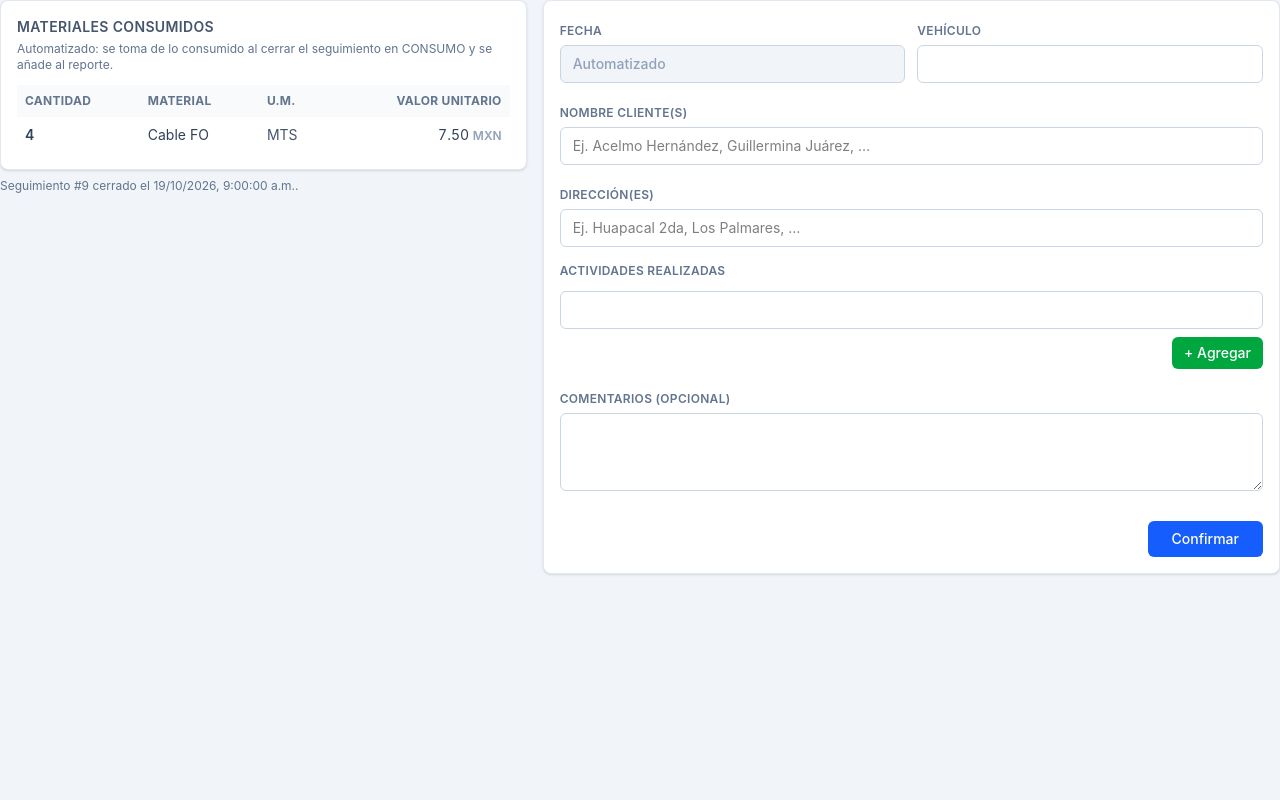
ActividadesPanel — confirmación (REQ-ACT-017) › rechazada: muestra el mensaje del backend y conserva los datos escritos
Type "Camioneta 12" into the field labelled "Vehículo" at point(1090, 64), box [917,45,1263,83]
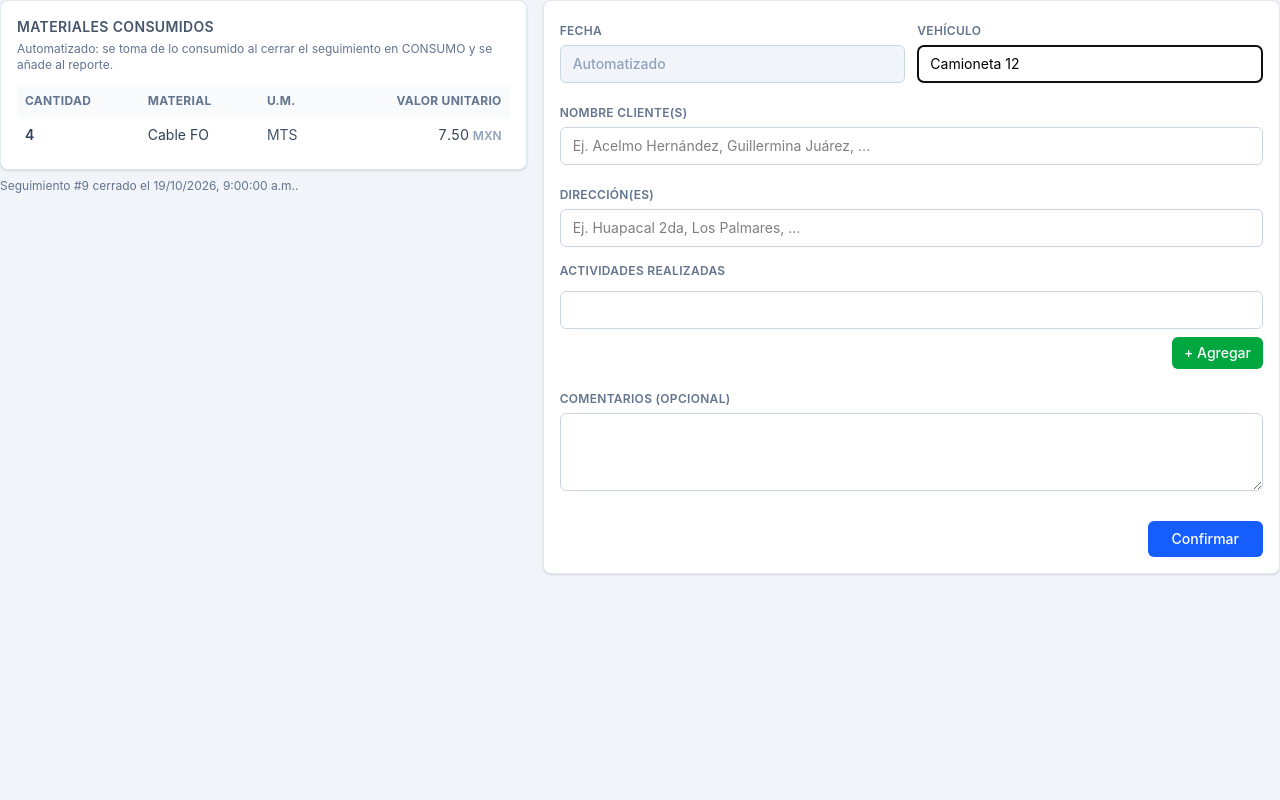
Type "Cliente A" into the field labelled "Nombre Cliente(s)" at point(911, 146), box [560,127,1263,165]
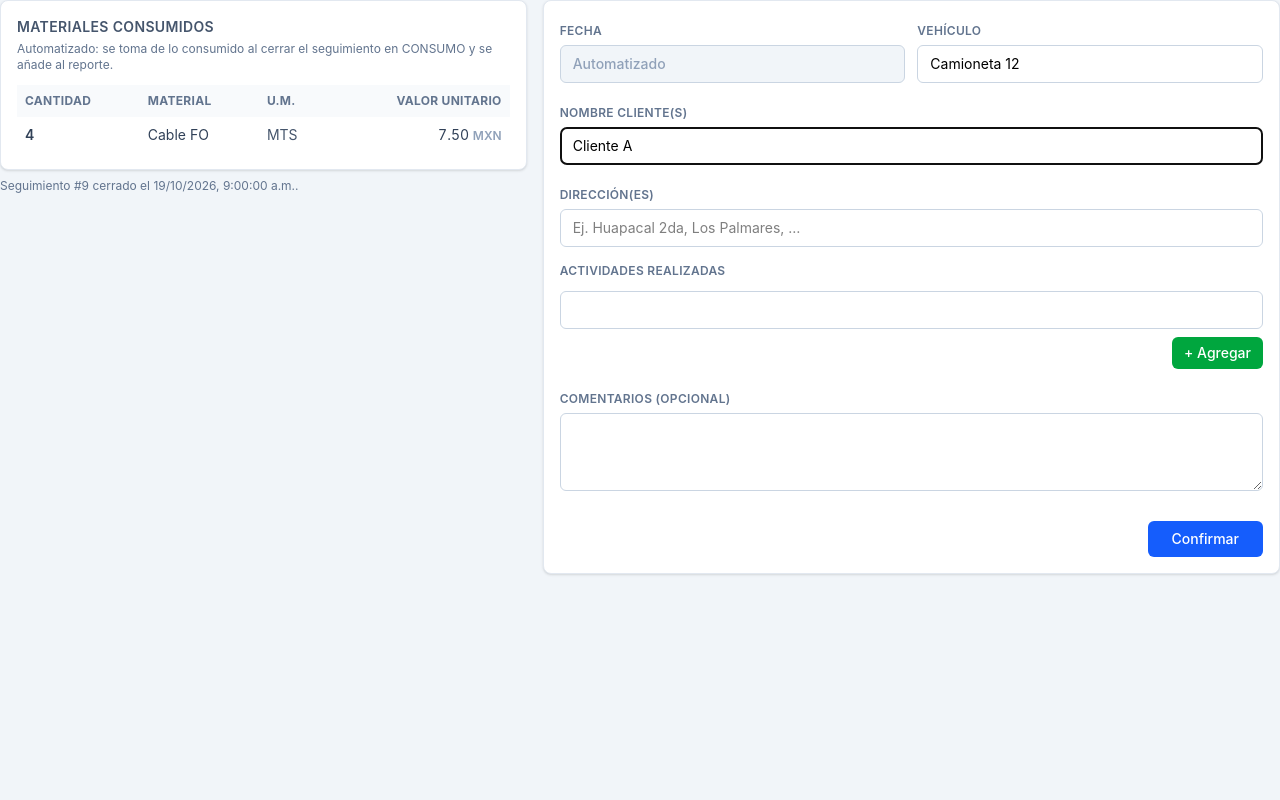
Type "Calle 1" into the field labelled "Dirección(es)" at point(911, 228), box [560,209,1263,247]
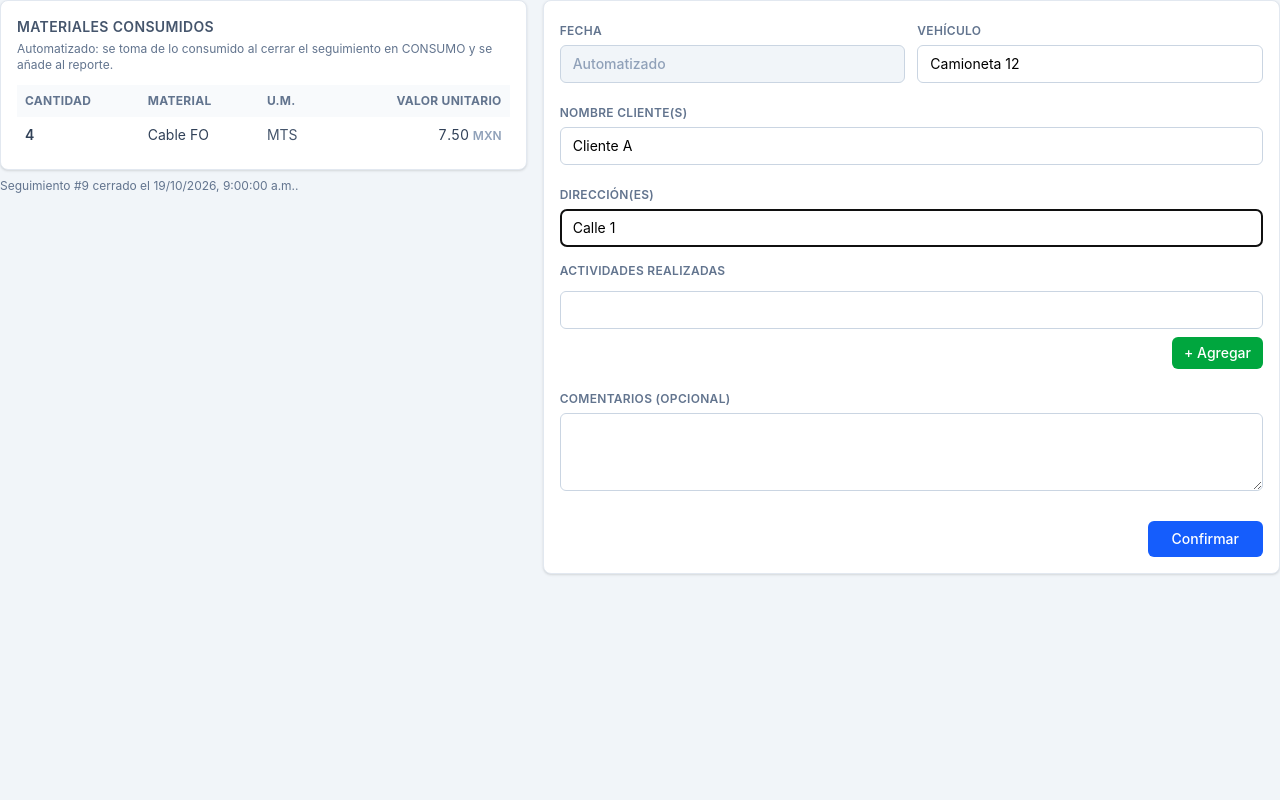
Type "Tendido de fibra" into the field named "Actividad realizada 1" at point(911, 310), box [560,291,1263,329]
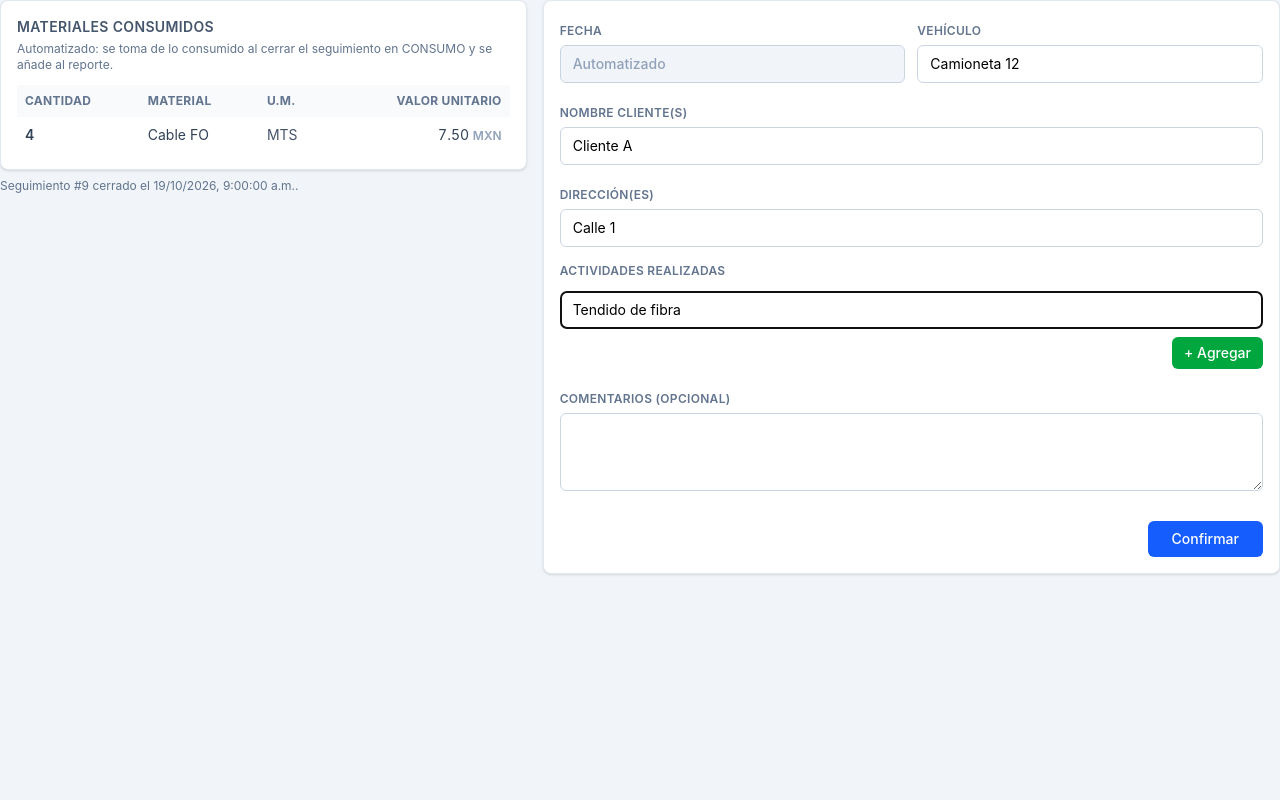
Click the button "Confirmar" at point(1205, 539), box [1148,521,1263,557]
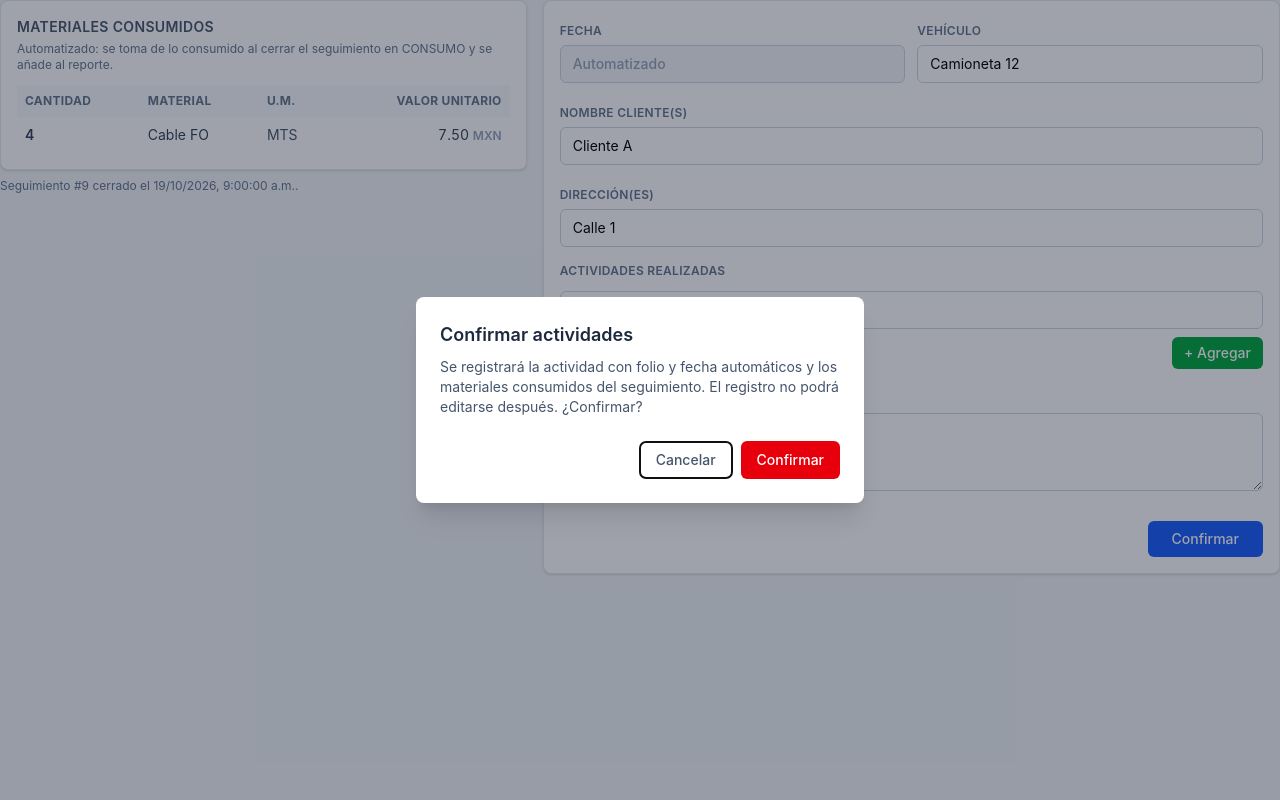
Check: the heading "Confirmar actividades" is shown, box [440,324,633,345]
Click the button "Confirmar" at point(790, 460), box [741,441,840,479]
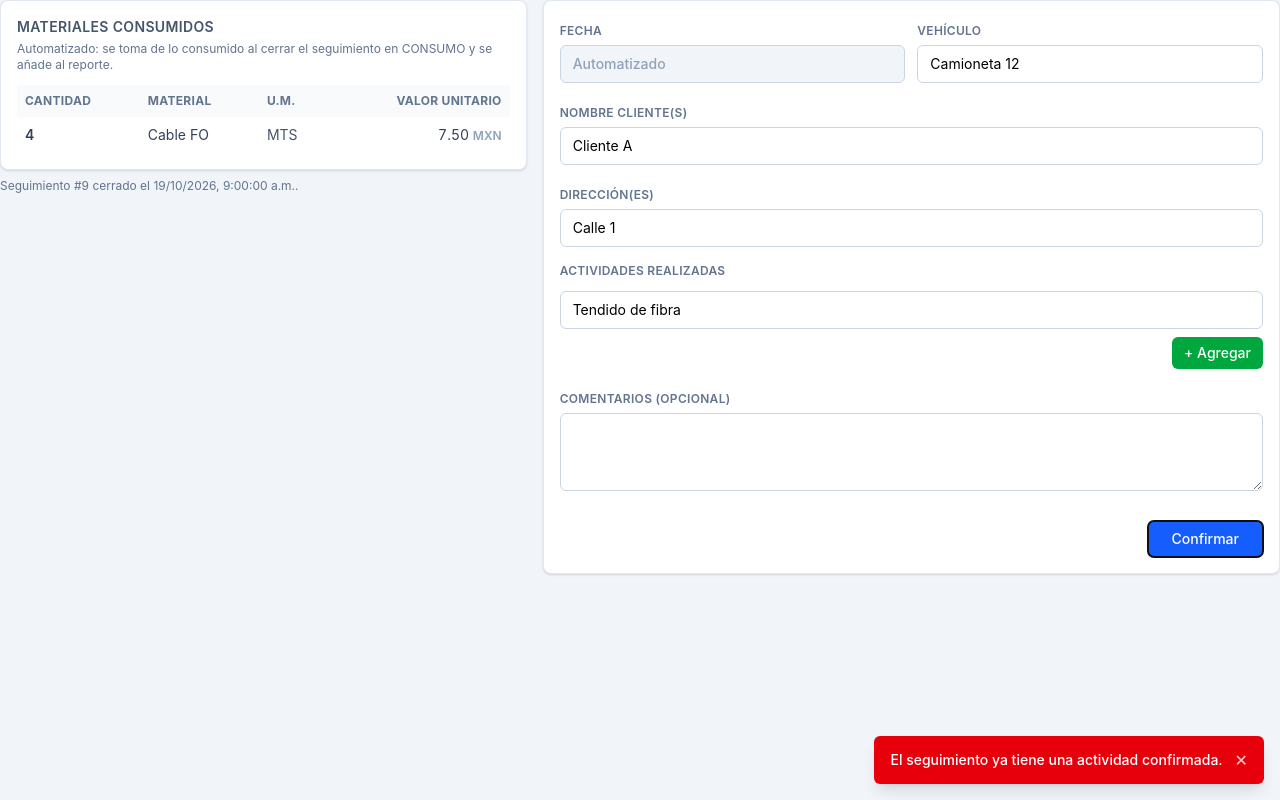
Check: the text "El seguimiento ya tiene una actividad confirmada." is shown, box [890,750,1223,770]
